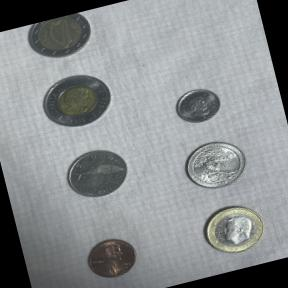coin: (30, 62, 124, 139), (56, 140, 135, 209), (20, 9, 103, 72), (194, 196, 271, 262), (177, 132, 255, 196), (79, 230, 145, 287), (166, 79, 228, 132)
